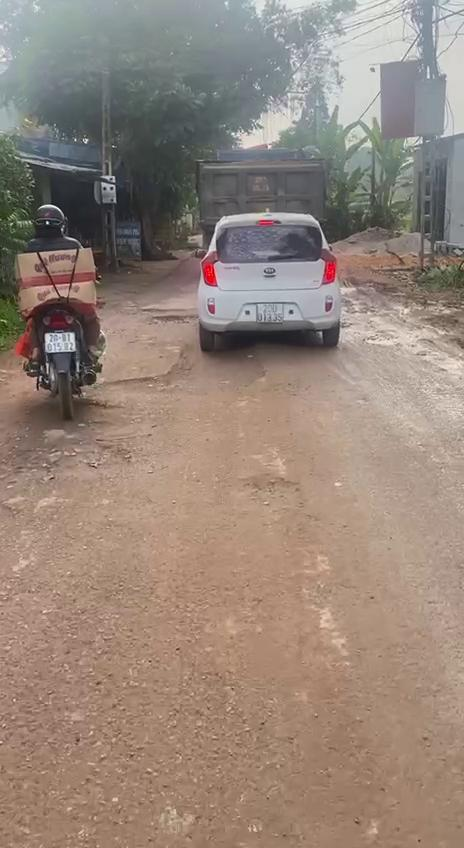pothole: (98, 362, 270, 396), (22, 441, 137, 480), (240, 473, 306, 512), (144, 313, 200, 327)
